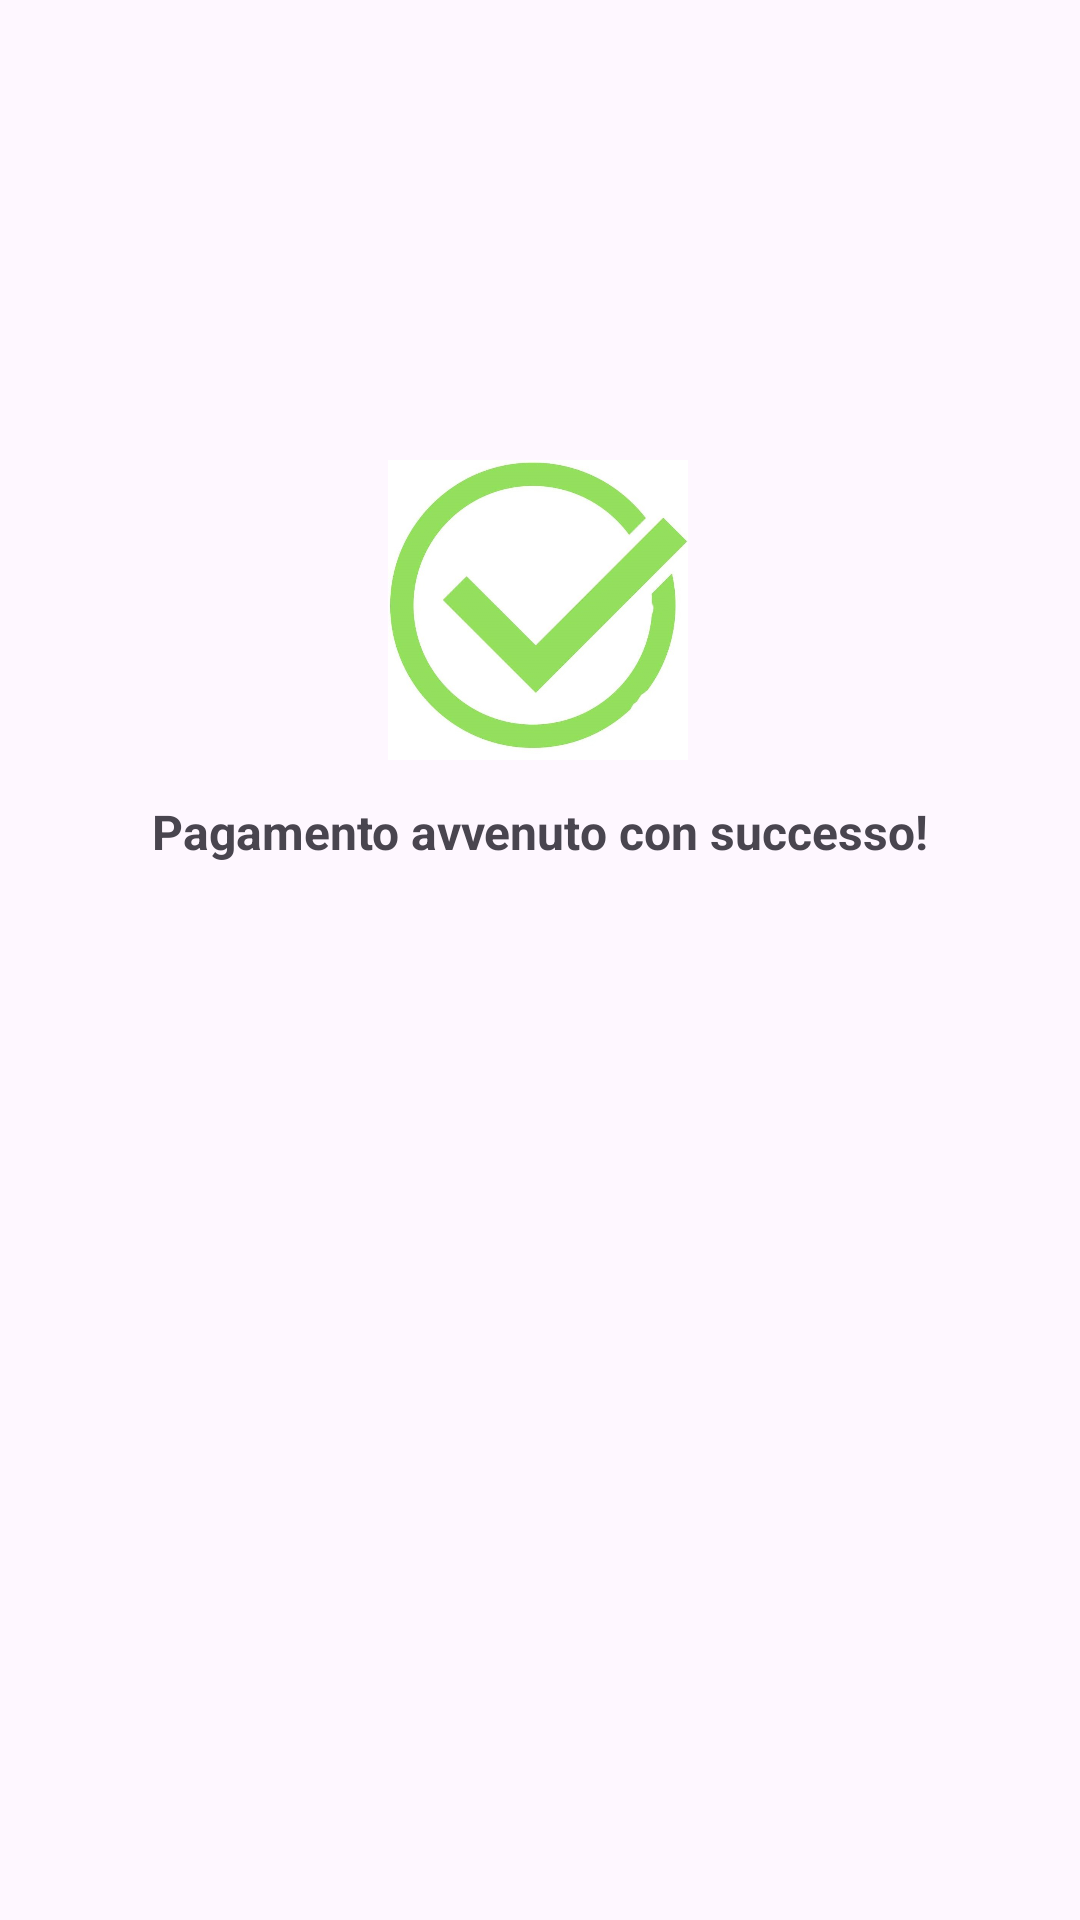

Screen size 1080 × 1920. Icon name, then its center in pixels as point (x, y):
spunta verde: point (539, 605)
